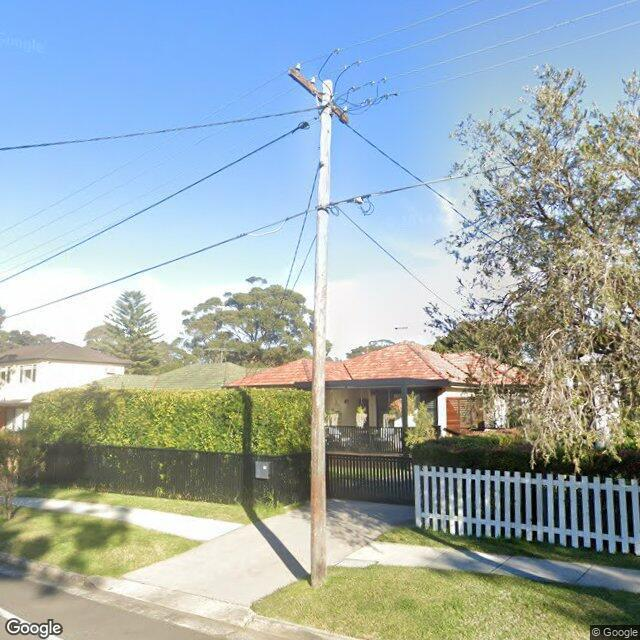crossarm: (286, 66, 350, 123)
timber-pole: (310, 81, 332, 586)
